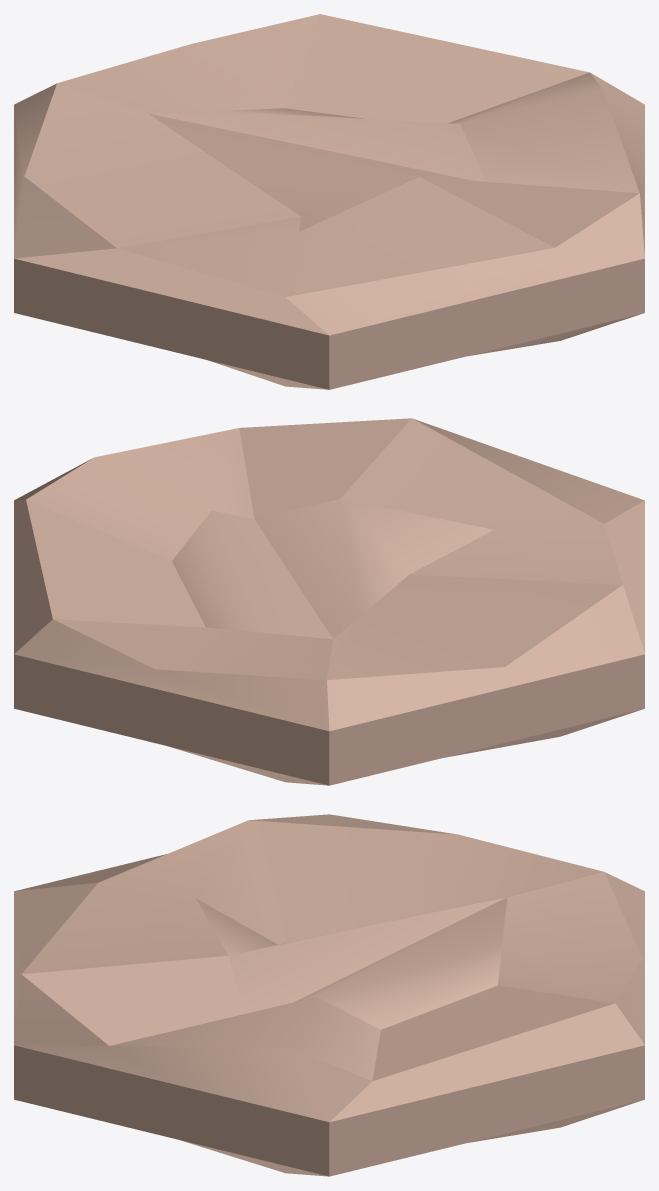
File: tuileHexagoneVolcan.fbx
The picture shows the model from 3 angles, top to bottom: view 1: azimuth 30°, elevation 25°; view 2: azimuth 150°, elevation 25°; view 3: azimuth 270°, elevation 25°; orthographic projection.
Parts seen in each view (by area): view 1: tuileHexagoneVolcan; view 2: tuileHexagoneVolcan; view 3: tuileHexagoneVolcan.
Part boxes in pixels (x1=…): tuileHexagoneVolcan: x1=14, y1=14, x2=644, y2=389; tuileHexagoneVolcan: x1=14, y1=418, x2=644, y2=785; tuileHexagoneVolcan: x1=14, y1=814, x2=644, y2=1176.
Size of the model in its own units: 217 by 44.5 by 188.
